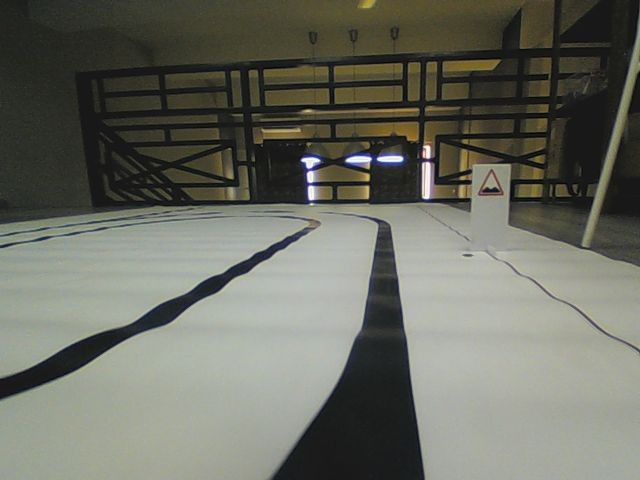Nerov: (478, 167, 504, 197)
